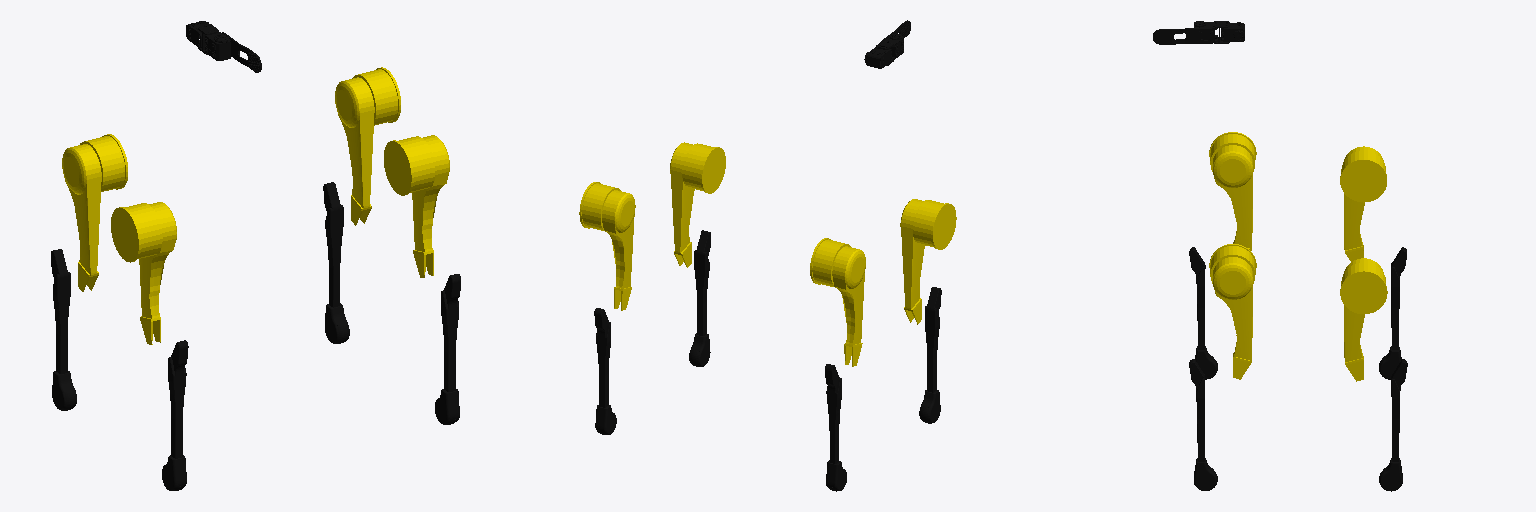
The robot description file, URDF, robot "rex_arm_v2":
<?xml version="1.0" encoding="utf-8"?>
<robot name="rex_arm_v2">
  <material name="yellow">
    <color rgba="0.92 0.83 0.0 1"/>
  </material>
  <material name="black">
    <color rgba="0.1 0.1 0.1 1"/>
  </material>
  <material name="grey">
    <color rgba="0.6 0.6 0.6 1"/>
  </material>
  <link name="base_link">
    <contact>
      <lateral_friction value="1"/>
    </contact>
    <visual>
      <geometry>
        <mesh filename="mark_II/chassis.obj" scale="1 1 1"/>
      </geometry>
      <material name="black"/>
      <origin rpy="1.57 0 0" xyz="0 0 0"/>
    </visual>
    <collision>
      <geometry>
        <box size="0.66 0.06 0.265"/>
      </geometry>
      <origin rpy="1.57 0 0" xyz="0 0 0"/>
    </collision>
    <inertial>
      <mass value="7.0"/>
      <inertia ixx="0.00578574" ixy="0.0" ixz="0.0" iyy="0.01938108" iyz="0.0" izz="0.02476124"/>
    </inertial>
  </link>

 <!-- Lidar Backpack
  <link name="lidar_link">
   <visual>
     <geometry>
       <mesh filename="stl/rplidar_main.stl" scale="0.001 0.001 0.001"/>
     </geometry>
     <material name="black"/>
     <origin rpy="1.57075 0 0" xyz="-0.06425 0.02885 0"/>
   </visual>
   <collision>
     <geometry>
       <box size="0.0985 0.0577 0.07"/>
     </geometry>
     <origin rpy="0 0 0" xyz="0 0 0"/>
   </collision>
   <inertial>
     <mass value="0.1"/>
     <inertia ixx="100" ixy="0" ixz="0" iyy="100" iyz="0" izz="100"/>
   </inertial>
  </link>
  <joint name="base_lidar" type="fixed">
   <parent link="base_link"/>
   <child link="lidar_link"/>
   <origin xyz="0 0 0.035"/>
  </joint> -->

  <!-- Front Right Leg -->
  <link name="front_right_shoulder_link">
    <contact>
      <lateral_friction value="1"/>
    </contact>
    <visual>
      <geometry>
        <mesh filename="mark_II/shoulder.obj" scale="1 1 1"/>
      </geometry>
      <origin rpy="0 0 0" xyz="0 0 0"/>
      <material name="black"/>
    </visual>
<!--    <collision>-->
<!--      <geometry>-->
<!--        <mesh filename="stl/shoulder_vhacd.obj" scale="1 1 1"/>-->
<!--      </geometry>-->
<!--      <origin rpy="0 0 0" xyz="0 0 0"/>-->
<!--    </collision>-->
    <inertial>
      <mass value="1"/>
      <inertia ixx="0.002" ixy="0" ixz="0" iyy=".002" iyz="0" izz=".001"/>
    </inertial>
  </link>

  <joint name="motor_front_right_shoulder" type="continuous">
    <parent link="base_link"/>
    <child link="front_right_shoulder_link"/>
    <axis xyz="1 0 0"/>
    <origin rpy="-1.57 0 3.14" xyz="0.322 -0.13 0"/>
    <limit effort="100.0" lower="-1.0" upper="1.0" velocity="100"/>
    <dynamics damping="0.0" friction="0.0"/>
  </joint>

  <link name="front_right_leg_link">
    <contact>
      <lateral_friction value="1"/>
    </contact>
    <visual>
      <geometry>
        <mesh filename="mark_II/upper_leg.obj" scale="1 1 1"/>
      </geometry>
      <origin rpy="0 0 0" xyz="0 0 0"/>
      <material name="yellow"/>
    </visual>
    <collision>
      <geometry>
        <mesh filename="mark_II/upper_leg_vhacd.obj" scale="1 1 1"/>
      </geometry>
      <origin rpy="0 0 0" xyz="0 0 0"/>
    </collision>
    <inertial>
      <mass value="1.5"/>
      <inertia ixx="0.016" ixy="0" ixz="0" iyy="0.007" iyz="0" izz="0.011"/>
    </inertial>
  </link>

  <joint name="motor_front_right_leg" type="continuous">
    <parent link="front_right_shoulder_link"/>
    <child link="front_right_leg_link"/>
    <axis xyz="-1 0 0"/>
    <origin rpy="3.14 -1.57 0" xyz="0.029 0 0.017"/>
    <limit effort="100.0" lower="-1.57" upper="1.57" velocity="100"/>
    <dynamics damping="0.0" friction="0.0"/>
  </joint>

  <link name="front_right_foot_link">
    <contact>
      <lateral_friction value="1"/>
    </contact>
    <visual>
      <geometry>
        <mesh filename="mark_II/lower_leg.obj" scale="1 1 1"/>
      </geometry>
      <origin rpy="0 0 0" xyz="0 0 0"/>
      <material name="black"/>
    </visual>
    <collision>
      <geometry>
        <mesh filename="mark_II/lower_leg_vhacd.obj" scale="1 1 1"/>
      </geometry>
      <origin rpy="0 0 0" xyz="0 0 0"/>
    </collision>
    <inertial>
      <mass value="0.25"/>
      <inertia ixx="0.002" ixy="0" ixz="0" iyy="0.002" iyz="0" izz="0.002"/>
    </inertial>
  </link>

  <joint name="foot_motor_front_right" type="continuous">
    <parent link="front_right_leg_link"/>
    <child link="front_right_foot_link"/>
    <axis xyz="-1 0 0"/>
    <origin rpy="0 3.14 0" xyz="0.08 -0.24 0"/>
    <limit effort="100.0" lower="-3.14" upper="3.14" velocity="100"/>
    <dynamics damping="0.0" friction="0"/>
  </joint>

  <link name="front_right_toe_link">
     <contact>
      <friction_anchor/>
      <stiffness value="30000.0"/>
      <damping value="1000.0"/>
      <spinning_friction value="0.1"/>
      <lateral_friction value="1.0"/>
    </contact>
    <visual>
      <geometry>
        <mesh filename="mark_II/toe.obj" scale="1 1 1"/>
      </geometry>
      <origin rpy="0 0 0" xyz="0 0 0"/>
      <material name="grey"/>
    </visual>
    <collision>
      <geometry>
        <mesh filename="mark_II/toe.obj" scale="1 1 1"/>
      </geometry>
      <origin rpy="0 0 0" xyz="0 0 0"/>
    </collision>
    <inertial>
      <mass value="0.01"/>
      <inertia ixx="0.000025" ixy="0" ixz="0" iyy="0.000025" iyz="0" izz="0.000025"/>
    </inertial>
  </link>

  <joint name="toe_joint_front_right" type="fixed">
    <parent link="front_right_foot_link"/>
    <child link="front_right_toe_link"/>
    <origin rpy="0 1.57 0" xyz="0 -0.255 0"/>
    <dynamics damping="0.0" friction="0.0"/>
  </joint>

  <!-- Front Left Leg -->
  <link name="front_left_shoulder_link">
    <contact>
      <lateral_friction value="1"/>
    </contact>
    <visual>
      <geometry>
        <mesh filename="mark_II/shoulder.obj" scale="1 1 1"/>
      </geometry>
      <origin rpy="0 0 0" xyz="0 0 0"/>
      <material name="black"/>
    </visual>
<!--    <collision>-->
<!--      <geometry>-->
<!--        <mesh filename="mark_II/shoulder_vhacd.obj" scale="1 1 1"/>-->
<!--      </geometry>-->
<!--      <origin rpy="0 0 0" xyz="0 0 0"/>-->
<!--    </collision>-->
    <inertial>
      <mass value="1"/>
      <inertia ixx="0.002" ixy="0" ixz="0" iyy=".002" iyz="0" izz=".001"/>
    </inertial>
  </link>

  <joint name="motor_front_left_shoulder" type="continuous">
    <parent link="base_link"/>
    <child link="front_left_shoulder_link"/>
    <axis xyz="1 0 0"/>
    <origin rpy="1.57 0 3.14" xyz="0.322 0.13 0"/>
    <limit effort="100.0" lower="-1.0" upper="1.0" velocity="100"/>
    <dynamics damping="0.0" friction="0.0"/>
  </joint>

  <link name="front_left_leg_link">
    <contact>
      <lateral_friction value="1"/>
    </contact>
    <visual>
      <geometry>
        <mesh filename="mark_II/upper_leg.obj" scale="1 1 1"/>
      </geometry>
      <origin rpy="0 0 0" xyz="0 0 0"/>
      <material name="yellow"/>
    </visual>
    <collision>
      <geometry>
        <mesh filename="mark_II/upper_leg_vhacd.obj" scale="1 1 1"/>
      </geometry>
      <origin rpy="0 0 0" xyz="0 0 0"/>
    </collision>
    <inertial>
      <mass value="1.5"/>
       <inertia ixx="0.015" ixy="0" ixz="0" iyy="0.007" iyz="0" izz="0.01"/>
    </inertial>
  </link>

  <joint name="motor_front_left_leg" type="continuous">
    <parent link="front_left_shoulder_link"/>
    <child link="front_left_leg_link"/>
    <axis xyz="1 0 0"/>
    <origin rpy="0 -1.57 0" xyz="0.029 0 0.017"/>
    <limit effort="100.0" lower="-1.57" upper="1.57" velocity="100"/>
    <dynamics damping="0.0" friction="0.0"/>
  </joint>

  <link name="front_left_foot_link">
    <contact>
      <lateral_friction value="1"/>
    </contact>
    <visual>
      <geometry>
        <mesh filename="mark_II/lower_leg.obj" scale="1 1 1"/>
      </geometry>
      <origin rpy="0 0 0" xyz="0 0 0"/>
      <material name="black"/>
    </visual>
    <collision>
      <geometry>
        <mesh filename="mark_II/lower_leg_vhacd.obj" scale="1 1 1"/>
      </geometry>
      <origin rpy="0 0 0" xyz="0 0 0"/>
    </collision>
    <inertial>
      <mass value="0.25"/>
      <inertia ixx="0.002" ixy="0" ixz="0" iyy="0.002" iyz="0" izz="0.002"/>
    </inertial>
  </link>

  <joint name="foot_motor_front_left" type="continuous">
    <parent link="front_left_leg_link"/>
    <child link="front_left_foot_link"/>
    <axis xyz="1 0 0"/>
    <origin rpy="0 3.14 0" xyz="0.08 -0.24 0"/>
    <limit effort="100.0" lower="-3.14" upper="3.14" velocity="100"/>
    <dynamics damping="0.0" friction="0.0"/>
  </joint>

  <link name="front_left_toe_link">
     <contact>
      <friction_anchor/>
      <stiffness value="30000.0"/>
      <damping value="1000.0"/>
      <spinning_friction value="0.1"/>
      <lateral_friction value="1.0"/>
    </contact>
    <visual>
      <geometry>
        <mesh filename="mark_II/toe.obj" scale="1 1 1"/>
      </geometry>
      <origin rpy="0 0 0" xyz="0 0 0"/>
      <material name="grey"/>
    </visual>
    <collision>
      <geometry>
        <mesh filename="mark_II/toe.obj" scale="1 1 1"/>
      </geometry>
      <origin rpy="0 0 0" xyz="0 0 0"/>
    </collision>
    <inertial>
      <mass value="0.01"/>
      <inertia ixx="0.000025" ixy="0" ixz="0" iyy="0.000025" iyz="0" izz="0.000025"/>
    </inertial>
  </link>

  <joint name="toe_joint_front_left" type="fixed">
    <parent link="front_left_foot_link"/>
    <child link="front_left_toe_link"/>
    <origin rpy="0 1.57 0" xyz="0 -0.255 0"/>
    <dynamics damping="0.0" friction="0.0"/>
  </joint>

  <!-- Rear Right Leg -->
  <link name="rear_right_shoulder_link">
    <contact>
      <lateral_friction value="1"/>
    </contact>
    <visual>
      <geometry>
        <mesh filename="mark_II/shoulder.obj" scale="1 1 1"/>
      </geometry>
      <origin rpy="0 0 0" xyz="0 0 0"/>
      <material name="black"/>
    </visual>
<!--    <collision>-->
<!--      <geometry>-->
<!--        <mesh filename="stl/shoulder_vhacd.obj" scale="1 1 1"/>-->
<!--      </geometry>-->
<!--      <origin rpy="0 0 0" xyz="0 0 0"/>-->
<!--    </collision>-->
    <inertial>
      <mass value="1"/>
      <inertia ixx="0.002" ixy="0" ixz="0" iyy="0.002" iyz="0" izz="0.001"/>
    </inertial>
  </link>

  <joint name="motor_rear_right_shoulder" type="continuous">
    <parent link="base_link"/>
    <child link="rear_right_shoulder_link"/>
    <axis xyz="-1 0 0"/>
    <origin rpy="-1.57 3.14 3.14" xyz="-0.322 -0.13 0"/>
    <limit effort="100.0" lower="-1.0" upper="1.0" velocity="100"/>
    <dynamics damping="0.0" friction="0.0"/>
  </joint>

  <link name="rear_right_leg_link">
    <contact>
      <lateral_friction value="1"/>
    </contact>
    <visual>
      <geometry>
        <mesh filename="mark_II/upper_leg.obj" scale="1 1 1"/>
      </geometry>
      <origin rpy="0 0 0" xyz="0 0 0"/>
      <material name="yellow"/>
    </visual>
    <collision>
      <geometry>
        <mesh filename="mark_II/upper_leg_vhacd.obj" scale="1 1 1"/>
      </geometry>
      <origin rpy="0 0 0" xyz="0 0 0"/>
    </collision>
    <inertial>
      <mass value="1.5"/>
      <inertia ixx="0.016" ixy="0" ixz="0" iyy="0.007" iyz="0" izz="0.011"/>
    </inertial>
  </link>

  <joint name="motor_rear_right_leg" type="continuous">
    <parent link="rear_right_shoulder_link"/>
    <child link="rear_right_leg_link"/>
    <axis xyz="-1 0 0"/>
    <origin rpy="0 -1.57 0" xyz="0.029 0 0.017"/>
    <limit effort="100.0" lower="-1.57" upper="1.57" velocity="100"/>
    <dynamics damping="0.0" friction="0.0"/>
  </joint>

  <link name="rear_right_foot_link">
    <contact>
      <lateral_friction value="1"/>
    </contact>
    <visual>
      <geometry>
        <mesh filename="mark_II/lower_leg.obj" scale="1 1 1"/>
      </geometry>
      <origin rpy="0 0 0" xyz="0 0 0"/>
      <material name="black"/>
    </visual>
    <collision>
      <geometry>
        <mesh filename="mark_II/lower_leg_vhacd.obj" scale="1 1 1"/>
      </geometry>
      <origin rpy="0 0 0" xyz="0 0 0"/>
    </collision>
    <inertial>
      <mass value="0.25"/>
      <inertia ixx="0.002" ixy="0" ixz="0" iyy="0.002" iyz="0" izz="0.002"/>
    </inertial>
  </link>

  <joint name="foot_motor_rear_right" type="continuous">
    <parent link="rear_right_leg_link"/>
    <child link="rear_right_foot_link"/>
    <axis xyz="-1 0 0"/>
    <origin rpy="0 3.14 0" xyz="0.08 -0.24 0"/>
    <limit effort="100.0" lower="-3.14" upper="3.14" velocity="100"/>
    <dynamics damping="0.0" friction="0.0"/>
  </joint>

  <link name="rear_right_toe_link">
     <contact>
      <friction_anchor/>
      <stiffness value="30000.0"/>
      <damping value="1000.0"/>
      <spinning_friction value="0.1"/>
      <lateral_friction value="1.0"/>
    </contact>
    <visual>
      <geometry>
        <mesh filename="mark_II/toe.obj" scale="1 1 1"/>
      </geometry>
      <origin rpy="0 0 0" xyz="0 0 0"/>
      <material name="grey"/>
    </visual>
    <collision>
      <geometry>
        <mesh filename="mark_II/toe.obj" scale="1 1 1"/>
      </geometry>
      <origin rpy="0 0 0" xyz="0 0 0"/>
    </collision>
    <inertial>
      <mass value="0.01"/>
      <inertia ixx="0.000025" ixy="0" ixz="0" iyy="0.000025" iyz="0" izz="0.000025"/>
    </inertial>
  </link>

  <joint name="toe_joint_rear_right" type="fixed">
    <parent link="rear_right_foot_link"/>
    <child link="rear_right_toe_link"/>
    <origin rpy="0 1.57 0" xyz="0 -0.255 0"/>
    <dynamics damping="0.0" friction="0.0"/>
  </joint>

  <!-- Rear Left Leg -->
  <link name="rear_left_shoulder_link">
    <contact>
      <lateral_friction value="1"/>
    </contact>
    <visual>
      <geometry>
        <mesh filename="mark_II/shoulder.obj" scale="1 1 1"/>
      </geometry>
      <origin rpy="0 0 0" xyz="0 0 0"/>
      <material name="black"/>
    </visual>
<!--    <collision>-->
<!--      <geometry>-->
<!--        <mesh filename="stl/shoulder_vhacd.obj" scale="1 1 1"/>-->
<!--      </geometry>-->
<!--      <origin rpy="0 0 0" xyz="0 0 0"/>-->
<!--    </collision>-->
    <inertial>
      <mass value="1"/>
      <inertia ixx="0.002" ixy="0" ixz="0" iyy="0.002" iyz="0" izz="0.001"/>
    </inertial>
  </link>

  <joint name="motor_rear_left_shoulder" type="continuous">
    <parent link="base_link"/>
    <child link="rear_left_shoulder_link"/>
    <axis xyz="-1 0 0"/>
    <origin rpy="1.57 3.14 3.14" xyz="-0.322 0.13 0"/>
    <limit effort="100.0" lower="-1.0" upper="1.0" velocity="100"/>
    <dynamics damping="0.0" friction="0.0"/>
  </joint>

  <link name="rear_left_leg_link">
    <contact>
      <lateral_friction value="1"/>
    </contact>
    <visual>
      <geometry>
        <mesh filename="mark_II/upper_leg.obj" scale="1 1 1"/>
      </geometry>
      <origin rpy="0 0 0" xyz="0 0 0"/>
      <material name="yellow"/>
    </visual>
    <collision>
      <geometry>
        <mesh filename="mark_II/upper_leg_vhacd.obj" scale="1 1 1"/>
      </geometry>
      <origin rpy="0 0 0" xyz="0 0 0"/>
    </collision>
    <inertial>
      <mass value="1.5"/>
      <inertia ixx="0.016" ixy="0" ixz="0" iyy="0.007" iyz="0" izz="0.011"/>
    </inertial>
  </link>

  <joint name="motor_rear_left_leg" type="continuous">
    <parent link="rear_left_shoulder_link"/>
    <child link="rear_left_leg_link"/>
    <axis xyz="1 0 0"/>
    <origin rpy="3.14 -1.57 0" xyz="0.029 0 0.017"/>
    <limit effort="100.0" lower="-1.57" upper="1.57" velocity="100"/>
    <dynamics damping="0.0" friction="0.0"/>
  </joint>

  <link name="rear_left_foot_link">
    <contact>
      <lateral_friction value="1"/>
    </contact>
    <visual>
      <geometry>
        <mesh filename="mark_II/lower_leg.obj" scale="1 1 1"/>
      </geometry>
      <origin rpy="0 0 0" xyz="0 0 0"/>
      <material name="black"/>
    </visual>
    <collision>
      <geometry>
        <mesh filename="mark_II/lower_leg_vhacd.obj" scale="1 1 1"/>
      </geometry>
      <origin rpy="0 0 0" xyz="0 0 0"/>
    </collision>
    <inertial>
      <mass value="0.25"/>
      <inertia ixx="0.002" ixy="0" ixz="0" iyy="0.002" iyz="0" izz="0.002"/>
    </inertial>
  </link>

  <joint name="foot_motor_rear_left" type="continuous">
    <parent link="rear_left_leg_link"/>
    <child link="rear_left_foot_link"/>
    <axis xyz="1 0 0"/>
    <origin rpy="0 3.14 0" xyz="0.08 -0.24 0"/>
    <limit effort="100.0" lower="-3.14" upper="3.14" velocity="100"/>
    <dynamics damping="0.0" friction="0.0"/>
  </joint>

  <link name="rear_left_toe_link">
     <contact>
      <friction_anchor/>
      <stiffness value="30000.0"/>
      <damping value="1000.0"/>
      <spinning_friction value="0.1"/>
      <lateral_friction value="1.0"/>
    </contact>
    <visual>
      <geometry>
        <mesh filename="mark_II/toe.obj" scale="1 1 1"/>
      </geometry>
      <origin rpy="0 0 0" xyz="0 0 0"/>
      <material name="grey"/>
    </visual>
    <collision>
      <geometry>
        <mesh filename="mark_II/toe.obj" scale="1 1 1"/>
      </geometry>
      <origin rpy="0 0 0" xyz="0 0 0"/>
    </collision>
    <inertial>
      <mass value="0.01"/>
      <inertia ixx="0.000025" ixy="0" ixz="0" iyy="0.000025" iyz="0" izz="0.000025"/>
    </inertial>
  </link>

  <joint name="toe_joint_rear_left" type="fixed">
    <parent link="rear_left_foot_link"/>
    <child link="rear_left_toe_link"/>
    <origin rpy="0 1.57 0" xyz="0 -0.255 0"/>
    <dynamics damping="0.0" friction="0.0"/>
  </joint>

  <!-- Arm -->
  <link name="arm_long_U">
    <visual>
      <geometry>
        <mesh filename="poppy_ergo_jr/long_U.obj" scale="1.5 1.5 1.5"/>
      </geometry>
      <origin rpy="0 0 0" xyz="0 0 0"/>
      <material name="black"/>
    </visual>
    <collision>
      <origin rpy="0 0 0" xyz="0 0 0.01"/>
      <geometry>
        <cylinder length="0.02" radius="0.02"/>
      </geometry>
    </collision>
    <inertial>
      <mass value="0"/>
      <inertia ixx="0.03" ixy="0" ixz="0" iyy="0.03" iyz="0" izz="0.03"/>
    </inertial>
  </link>

  <joint name="motor_arm_m1" type="revolute">
    <origin rpy="0 0 0" xyz="-0.2 0 0.11"/>
    <limit effort="100.0" lower="-4.71" upper="1.57" velocity="0.5"/>
    <parent link="base_link"/>
    <child link="arm_long_U"/>
    <axis xyz="0 0 1"/>
  </joint>

  <link name="arm_section_1">
    <visual>
      <origin rpy="0 1.5707963267949 0" xyz="0 0 0"/>
      <geometry>
        <mesh filename="poppy_ergo_jr/section_1.obj" scale="1.5 1.5 1.5"/>
      </geometry>
      <material name="black"/>
    </visual>
    <collision>
      <origin rpy="0 1.5707963267949 0" xyz="0.025 0 0"/>
      <geometry>
        <cylinder length="0.05" radius="0.02"/>
      </geometry>
    </collision>
    <inertial>
      <mass value="0"/>
      <inertia ixx="0.03" ixy="0" ixz="0" iyy="0.03" iyz="0" izz="0.03"/>
    </inertial>
  </link>

  <joint name="motor_arm_m2" type="revolute">
    <origin rpy="0 -1.5707963267949 0" xyz="0 0 0.036"/>
    <parent link="arm_long_U"/>
    <child link="arm_section_1"/>
    <limit effort="100.0" lower="-1.57" upper="1.57" velocity="0.5"/>
    <axis xyz="0 0 -1"/>

  </joint>
  <link name="arm_section_1_ext">
    <visual>
      <origin rpy="0 0 0" xyz="0 0 0"/>
      <geometry>
        <mesh filename="poppy_ergo_jr/section_1.obj" scale="1.5 1.5 1.5"/>
      </geometry>
      <material name="black"/>
    </visual>
    <collision>
      <origin rpy="0 1.5707963267949 0" xyz="0.048 0 0"/>
      <geometry>
        <cylinder length="0.05" radius="0.02"/>
      </geometry>
    </collision>
    <inertial>
      <mass value="0"/>
      <inertia ixx="0.03" ixy="0" ixz="0" iyy="0.03" iyz="0" izz="0.03"/>
    </inertial>
  </link>

  <joint name="arm_1_ext" type="fixed">
    <origin rpy="0 1.5707963267949 0" xyz="0.08 0 0"/>
    <parent link="arm_section_1"/>
    <child link="arm_section_1_ext"/>
    <axis xyz="0 0 1"/>
  </joint>

  <link name="arm_section_2">
    <visual>
      <origin rpy="0 1.5707963267949 0" xyz="0 0 0"/>
      <geometry>
        <mesh filename="poppy_ergo_jr/section_2.obj" scale="1.5 1.5 1.5"/>
      </geometry>
      <material name="black"/>
    </visual>
    <collision>
      <origin rpy="0 1.5707963267949 0" xyz="0.025 0 0"/>
      <geometry>
        <cylinder length="0.05" radius="0.02"/>
      </geometry>
    </collision>
    <inertial>
      <mass value="0"/>
      <inertia ixx="0.03" ixy="0" ixz="0" iyy="0.03" iyz="0" izz="0.03"/>
    </inertial>
  </link>

  <joint name="motor_arm_m3" type="revolute">
    <origin rpy="0 0 0" xyz="0.16 0 0"/>
    <parent link="arm_section_1"/>
    <child link="arm_section_2"/>
    <limit effort="100.0" lower="-1.57" upper="1.57" velocity="0.5"/>
    <axis xyz="0 0 -1"/>
  </joint>

  <link name="arm_section_3">
    <visual>
      <origin rpy="0 3.14159268 0" xyz="0 0 0"/>
      <geometry>
        <mesh filename="poppy_ergo_jr/section_3.obj" scale="1.5 1.5 1.5"/>
      </geometry>
      <material name="black"/>
    </visual>
    <collision>
      <origin rpy="1.5707963267949 0 0" xyz="0 -0.025 0"/>
      <geometry>
        <cylinder length="0.05" radius="0.02"/>
      </geometry>
    </collision>
    <inertial>
      <mass value="0"/>
      <inertia ixx="0.03" ixy="0" ixz="0" iyy="0.03" iyz="0" izz="0.03"/>
    </inertial>
  </link>

  <joint name="motor_arm_m4" type="revolute">
    <origin rpy="0 -1.5707963267949 0" xyz="0.067 0 0"/>
    <parent link="arm_section_2"/>
    <child link="arm_section_3"/>
    <limit effort="100.0" lower="-3.14" upper="3.14" velocity="0.5"/>
    <axis xyz="0 0 -1"/>
  </joint>

  <link name="arm_section_4">
    <visual>
      <origin rpy="0 0 0" xyz="0 0 0"/>
      <geometry>
        <mesh filename="poppy_ergo_jr/section_2.obj" scale="1.5 1.5 1.5"/>
      </geometry>
      <material name="black"/>
    </visual>
    <collision>
      <origin rpy="0 0 0" xyz="0.025 0 0"/>
      <geometry>
        <cylinder length="0.05" radius="0.02"/>
      </geometry>
    </collision>
    <inertial>
      <mass value="0"/>
      <inertia ixx="0.03" ixy="0" ixz="0" iyy="0.03" iyz="0" izz="0.03"/>
    </inertial>
  </link>

  <joint name="motor_arm_m5" type="revolute">
    <origin rpy="-1.57 0 3.14" xyz="0 -0.072 0"/>
    <parent link="arm_section_3"/>
    <child link="arm_section_4"/>
    <limit effort="100.0" lower="-1.57" upper="1.57" velocity="0.5"/>
    <axis xyz="1 0 0"/>
  </joint>

  <link name="arm_section_4_ext">
    <visual>
      <origin rpy="0 0 0" xyz="0 0 0"/>
      <geometry>
        <mesh filename="poppy_ergo_jr/section_4.obj" scale="1.5 1.5 1.5"/>
      </geometry>
      <material name="black"/>
    </visual>
    <collision>
      <origin rpy="0 0 0" xyz="0 0 0"/>
      <geometry>
        <cylinder length="0.05" radius="0.02"/>
      </geometry>
    </collision>
    <inertial>
      <mass value="0"/>
      <inertia ixx="0.03" ixy="0" ixz="0" iyy="0.03" iyz="0" izz="0.03"/>
    </inertial>
  </link>

  <joint name="motor_arm_m6" type="revolute">
    <origin rpy="-1.57 0 0" xyz="0 0 0.146"/>
    <limit effort="100.0" lower="-1.57" upper="1.57" velocity="0.5"/>
    <parent link="arm_section_4"/>
    <child link="arm_section_4_ext"/>
    <axis xyz="0 1 0"/>
  </joint>

  <link name="arm_section_5">
    <visual>
      <origin rpy="0 0 0" xyz="0 0 0"/>
      <geometry>
        <mesh filename="poppy_ergo_jr/gripper.obj" scale="1.5 1.5 1.5"/>
      </geometry>
      <material name="black"/>
    </visual>
    <collision>
      <origin rpy="-1.5707963267949 0 0" xyz="0 -0.04 0"/>
      <geometry>
        <cylinder length="0.06" radius="0.02"/>
      </geometry>
    </collision>
    <inertial>
      <mass value="0"/>
      <inertia ixx="0.03" ixy="0" ixz="0" iyy="0.03" iyz="0" izz="0.03"/>
    </inertial>
  </link>

  <joint name="motor_arm_m7" type="revolute">
    <origin rpy="0 0 0" xyz="0 0 0"/>
    <axis xyz="0 0 -1.5"/>
    <parent link="arm_section_4_ext"/>
    <child link="arm_section_5"/>
    <limit effort="100.0" lower="-0.436" upper="1.5" velocity="0.7"/>
  </joint>
</robot>

--- What the picture shows (computed from the rendered views, not written in the file) ---
3 views of the same robot in one strip: view 1: azimuth 30°, elevation 25°; view 2: azimuth 150°, elevation 25°; view 3: azimuth 270°, elevation 25° (orthographic).
Robot: rex_arm_v2 — 25 links, 24 joints (7 revolute, 12 continuous, 5 fixed); root link base_link; default pose: all joints at 0.
Visible links, largest first — view 1: front_left_leg_link, rear_left_leg_link, rear_right_leg_link, front_right_leg_link, rear_left_foot_link, front_left_foot_link, front_right_foot_link, rear_right_foot_link, arm_section_4_ext; view 2: front_right_leg_link, rear_right_leg_link, front_left_leg_link, rear_left_leg_link, front_right_foot_link, rear_right_foot_link, front_left_foot_link, rear_left_foot_link, arm_section_4_ext; view 3: front_right_leg_link, rear_right_leg_link, front_left_leg_link, rear_left_leg_link, arm_section_4_ext, front_right_foot_link, front_left_foot_link, rear_left_foot_link, rear_right_foot_link.
Boxes of the visible links, box(x1,y1,x2,y2) form: front_left_leg_link: box(335, 67, 400, 225); rear_left_leg_link: box(62, 134, 127, 291); rear_right_leg_link: box(111, 202, 176, 344); front_right_leg_link: box(384, 135, 449, 277); rear_left_foot_link: box(51, 249, 76, 410); front_left_foot_link: box(323, 182, 349, 343); front_right_foot_link: box(435, 274, 460, 424); rear_right_foot_link: box(162, 340, 188, 490); arm_section_4_ext: box(186, 21, 261, 72); front_right_leg_link: box(670, 142, 725, 267); rear_right_leg_link: box(900, 199, 956, 324); front_left_leg_link: box(579, 182, 635, 310); rear_left_leg_link: box(810, 238, 865, 366); front_right_foot_link: box(689, 230, 710, 366); rear_right_foot_link: box(919, 287, 941, 423); front_left_foot_link: box(594, 308, 616, 434); rear_left_foot_link: box(825, 364, 846, 491); arm_section_4_ext: box(864, 20, 910, 68); front_right_leg_link: box(1209, 244, 1256, 379); rear_right_leg_link: box(1209, 132, 1256, 250); front_left_leg_link: box(1340, 258, 1387, 381); rear_left_leg_link: box(1340, 146, 1386, 261); arm_section_4_ext: box(1153, 21, 1244, 44); front_right_foot_link: box(1189, 359, 1217, 490); front_left_foot_link: box(1379, 359, 1407, 491); rear_left_foot_link: box(1379, 247, 1406, 379); rear_right_foot_link: box(1189, 247, 1217, 379).
Size in the robot's own frame: 0.7312 by 0.5647 by 0.912 metres.
Meshes: 11 distinct files referenced, 9 mesh visuals loaded (3 OBJ); not drawn: 16 (reference not matched to a file when rendering).